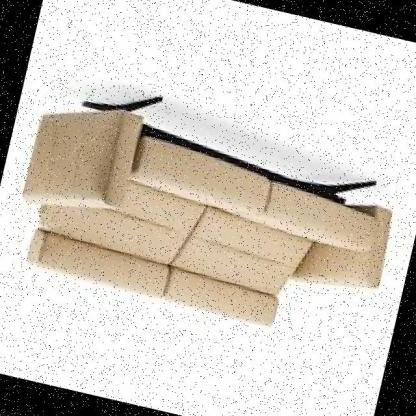Sofa: (0, 53, 416, 374)
